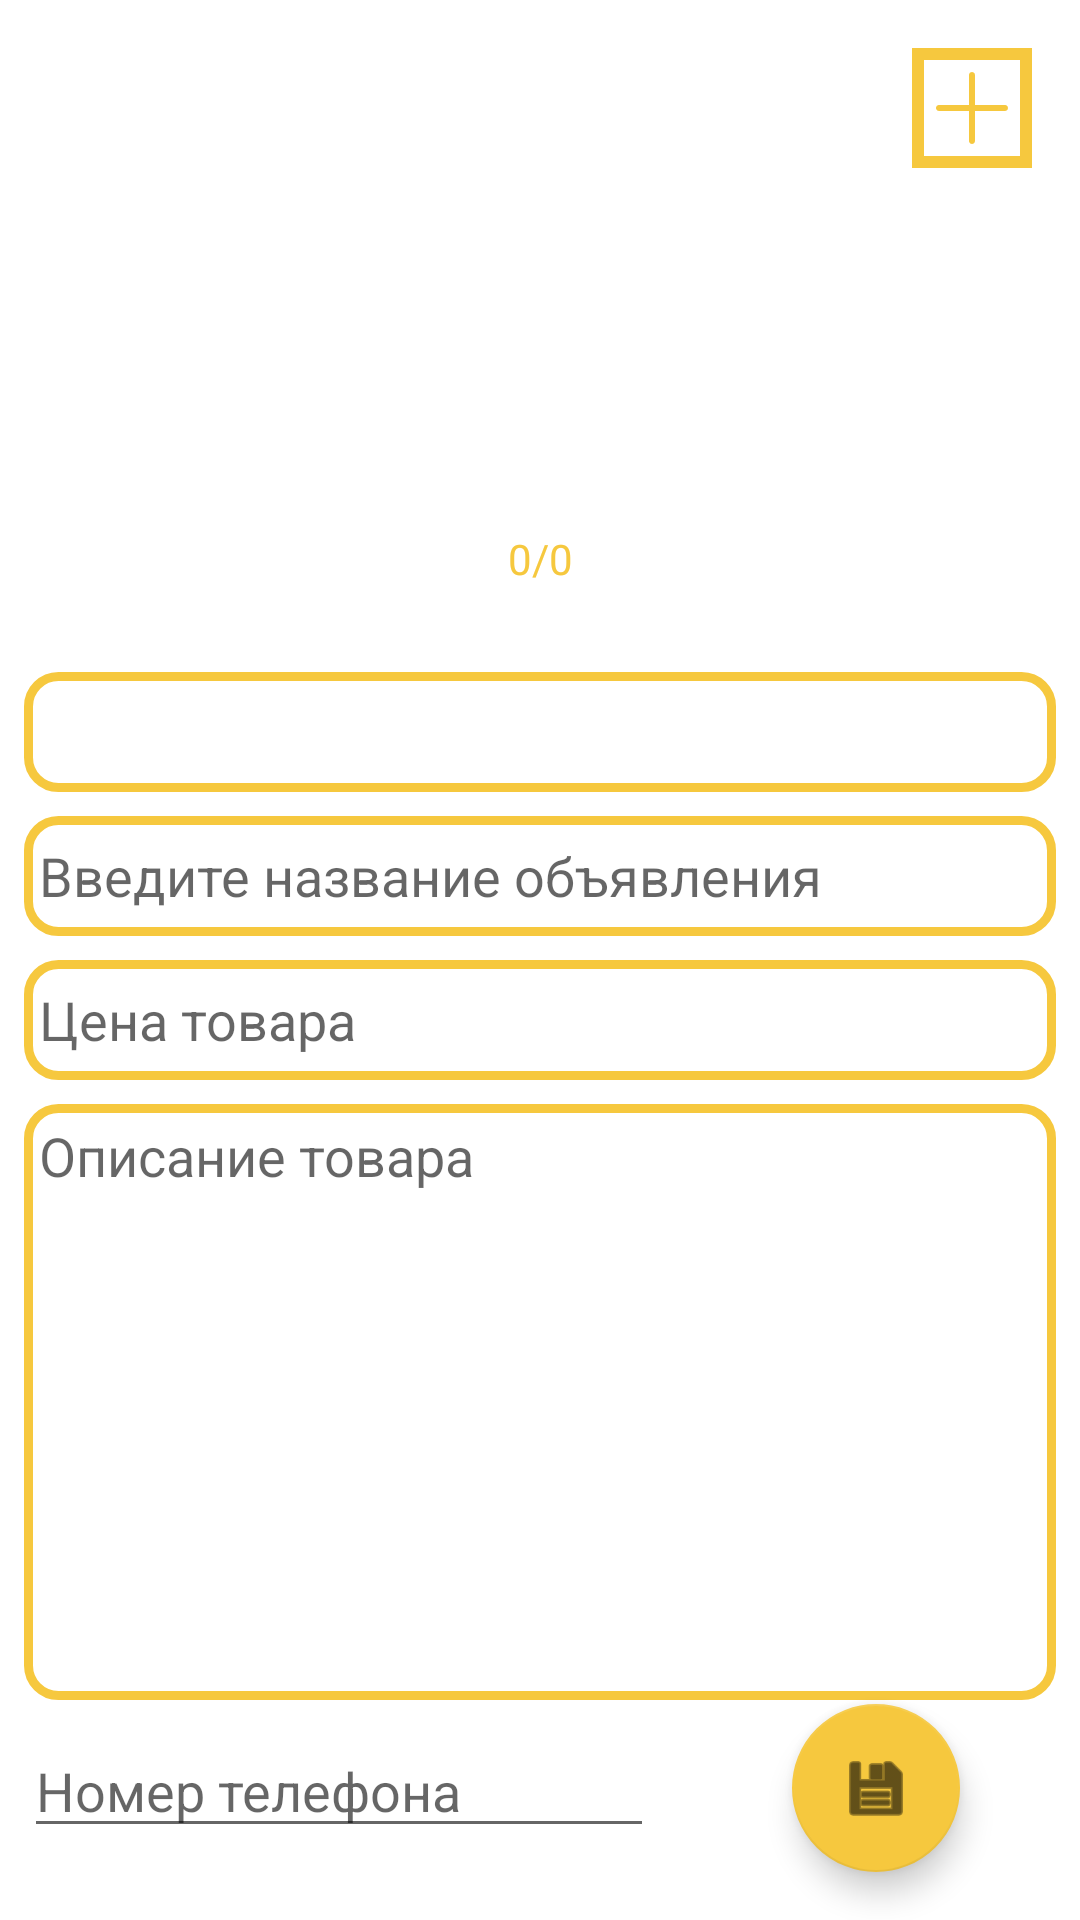

Icon click points for this 1080x1920 phone screenshot, format [x,y]:
add: [972,108]
save: [876,1788]
